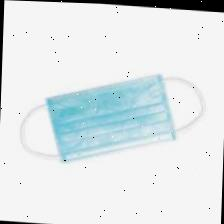mask: (40, 57, 180, 182)
